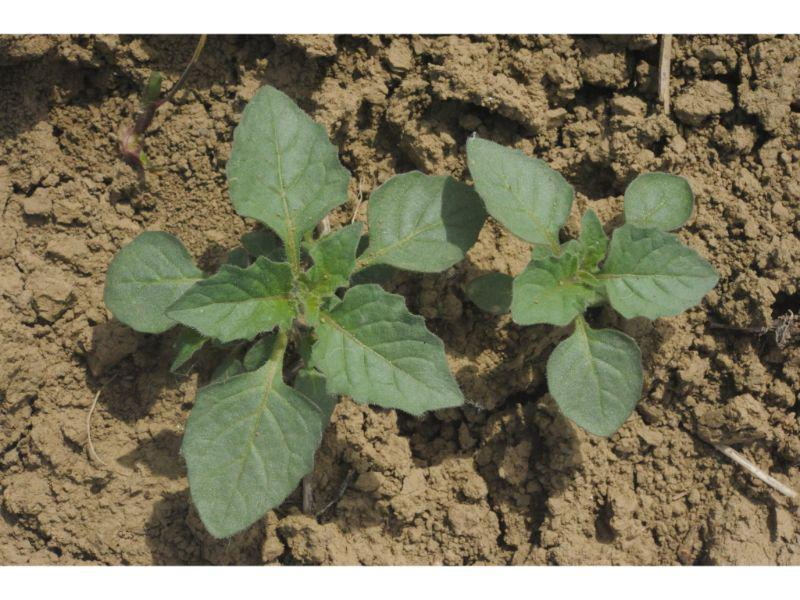nightshade: (103, 84, 487, 535), (465, 138, 720, 436)
